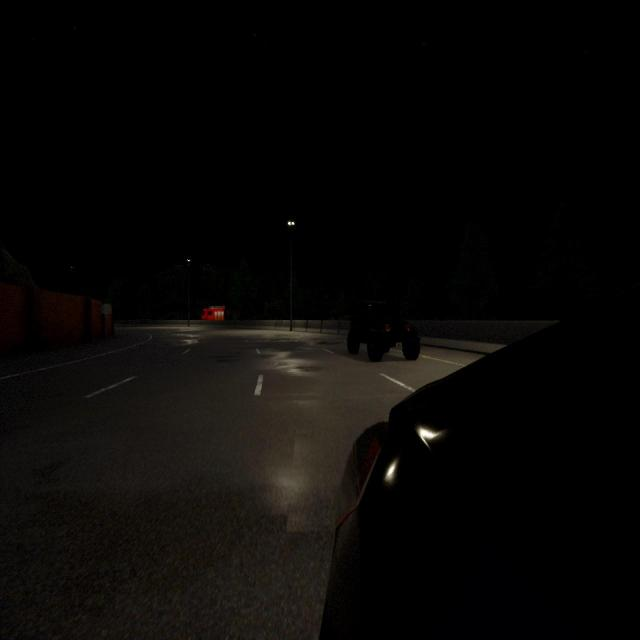Traffic_Signs: (100, 303, 112, 314)
Vehicle: (320, 286, 640, 637), (347, 298, 421, 362), (201, 306, 225, 320)
